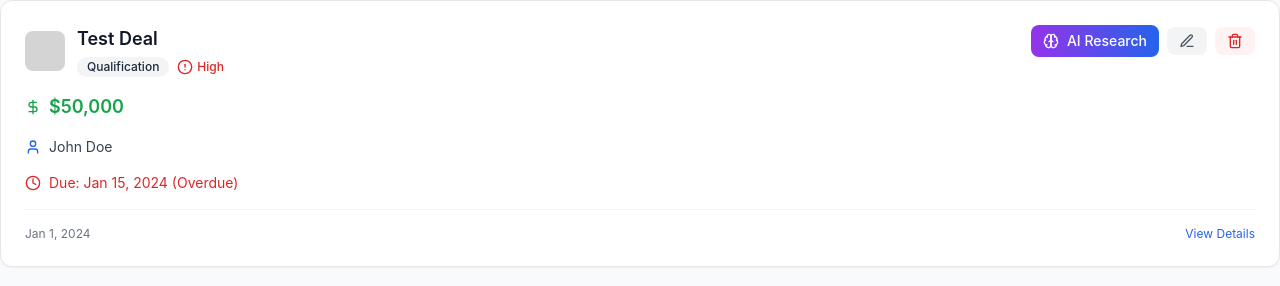
Test: DealCard Component › Edit Mode › cancels edit mode and resets changes
Enter edit mode
Click the button named "edit deal test company" at (1187,41), box [1167, 27, 1207, 55]
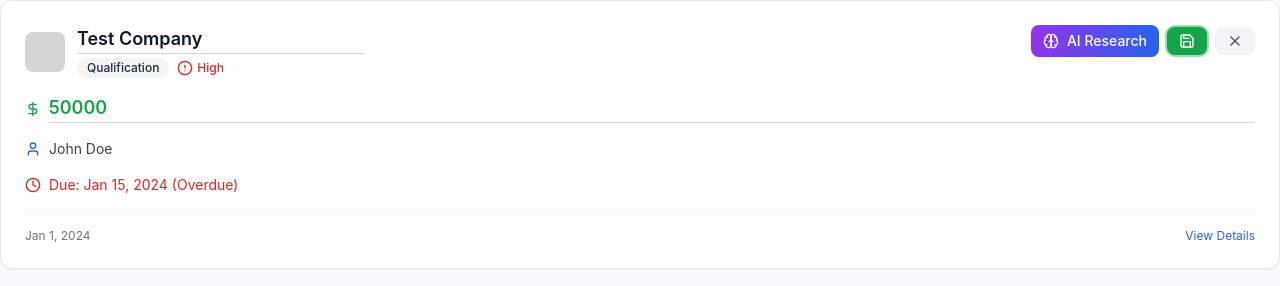
Make changes
Replace the text in the field showing "Test Company" with "Changed Company" at (221,40), box [77, 25, 365, 54]
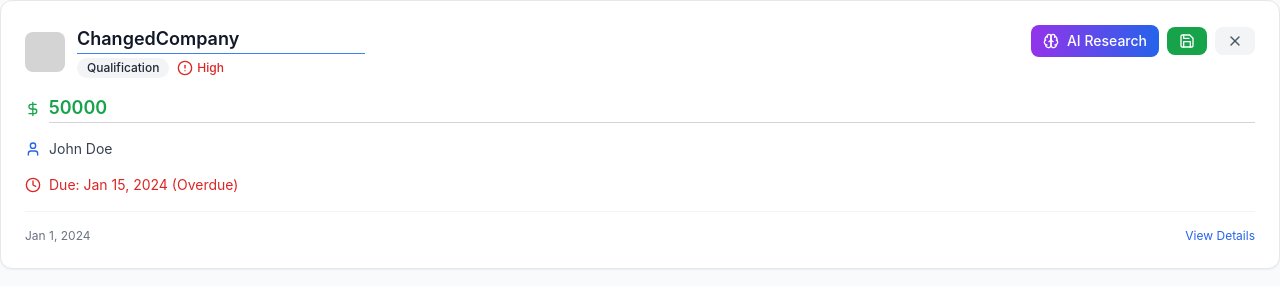
Cancel changes
Click the button named "Cancel editing" at (1235,41), box [1215, 27, 1255, 55]
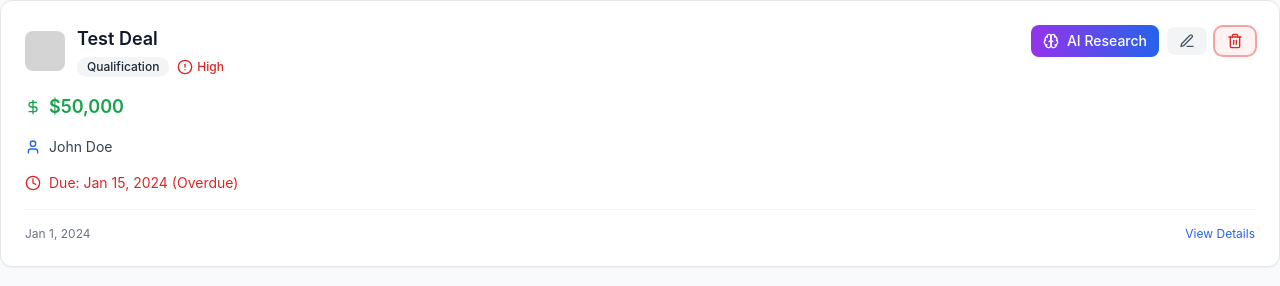
Now the heading "Test Deal" is shown, box [77, 28, 158, 49]
